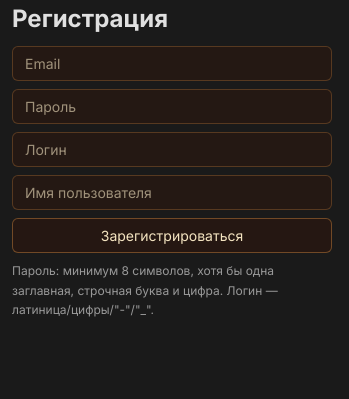
Test: RegisterForm › should validate password requirements
Type "test@example.com" into the field with placeholder "Email" at (172, 64), box x1=12 y1=46 x2=332 y2=81
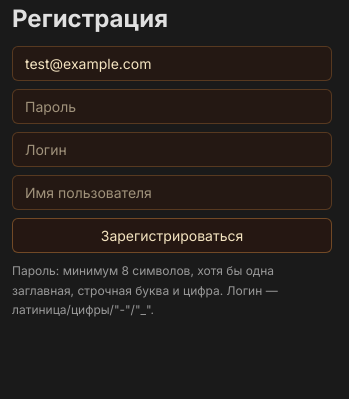
Type "weak" into the password field with placeholder "Пароль" at (172, 107), box x1=12 y1=89 x2=332 y2=124
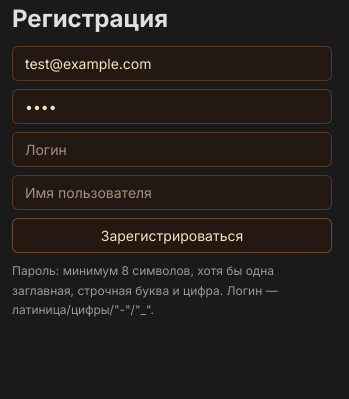
Click the button "Зарегистрироваться" at (172, 236), box x1=12 y1=218 x2=332 y2=253
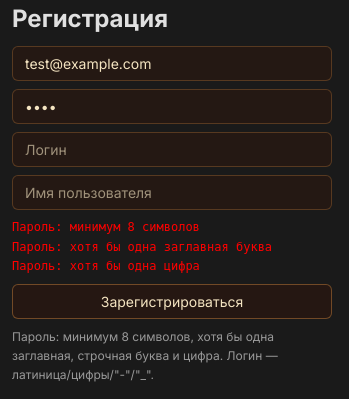
Expected: the text "Пароль: минимум 8 символов" is shown, x1=12 y1=220 x2=272 y2=273
